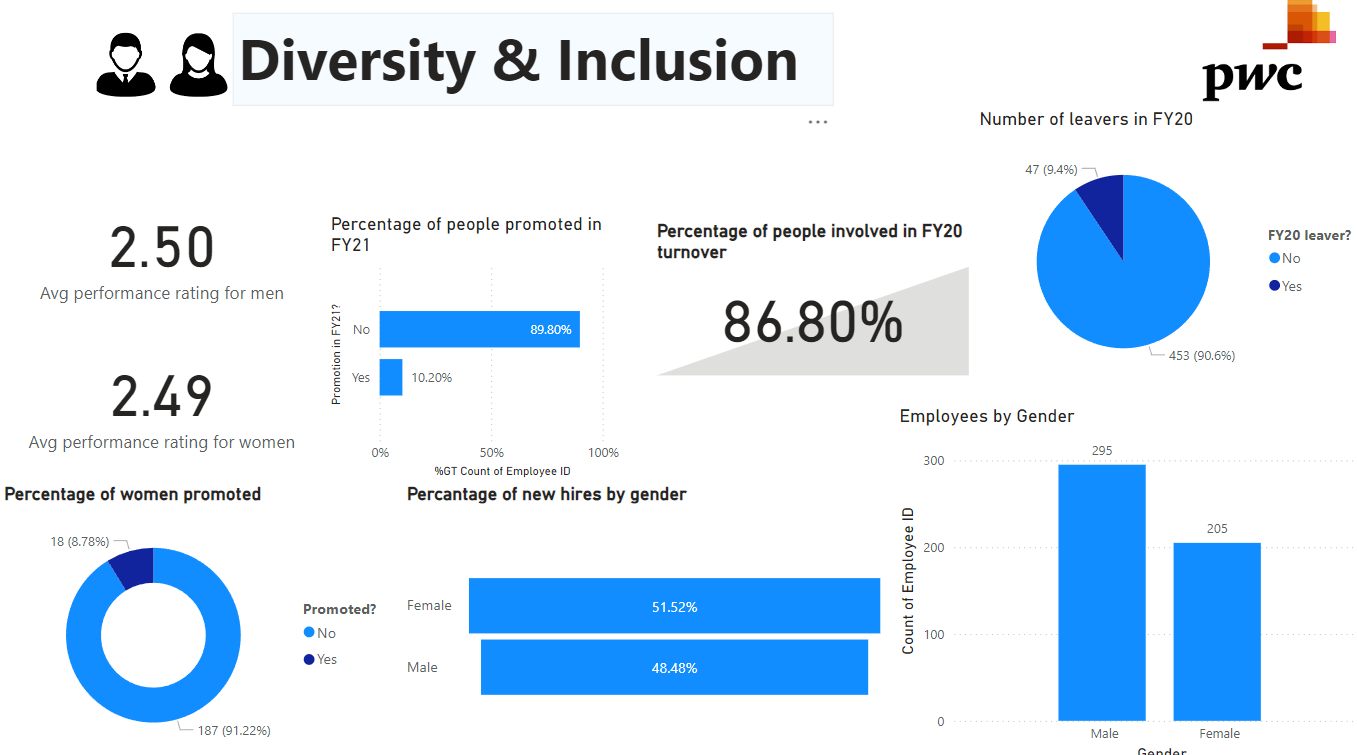

This screenshot's page, from the dashboard's own definition file:
{"tool":"powerbi","page":{"name":"Page 1","canvas":[1280,720],"ordinal":0},"visuals":[{"type":"pieChart","title":"Number of leavers in FY20","fields":{"Y":["CountNonNull(Pharma Group AG.Employee ID)"],"Category":["Pharma Group AG.FY20 leaver?"]},"box":[907,105.8,373.3,267.4],"z":0},{"type":"clusteredBarChart","title":"Percentage of people promoted in FY21","fields":{"Category":["Pharma Group AG.Promotion in FY21?"],"Y":["Divide(CountNonNull(Pharma Group AG.Employee ID), ScopedEval(CountNonNull(Pharma Group AG.Employee ID), []))"]},"box":[303.3,203.1,299.1,251.1],"z":1000},{"type":"clusteredColumnChart","title":"Employees by Gender","fields":{"Category":["Pharma Group AG.Gender"],"Y":["CountNonNull(Pharma Group AG.Employee ID)"]},"box":[832.9,382.8,447.3,337.6],"z":2000},{"type":"donutChart","title":"Percentage of women promoted","fields":{"Category":["Pharma Group AG.Promotion in FY21?"],"Y":["CountNonNull(Pharma Group AG.Employee ID)"],"Series":["Pharma Group AG.Promotion in FY21?"]},"box":[0,454.2,374.6,264.8],"z":3000},{"type":"funnel","title":"Percantage of new hires by gender","fields":{"Category":["Pharma Group AG.Gender","Pharma Group AG.New hire FY20?"],"Y":["Divide(CountNonNull(Pharma Group AG.Employee ID), ScopedEval(CountNonNull(Pharma Group AG.Employee ID), []))"]},"box":[374.6,454.2,455.6,266.2],"z":4000},{"type":"kpi","title":"Percentage of people involved in FY20 turnover","fields":{"TrendLine":["Pharma Group AG.In base group for turnover FY20"],"Indicator":["Divide(CountNonNull(Pharma Group AG.Employee ID), ScopedEval(CountNonNull(Pharma Group AG.Employee ID), []))"]},"box":[606.5,209.9,300.5,149.6],"z":5000},{"type":"card","fields":{"Values":["Pharma Group AG.Measure"]},"box":[0,170.2,303.3,138.6],"z":6000},{"type":"card","fields":{"Values":["Pharma Group AG.Measure"]},"box":[0,308.7,303.3,137.2],"z":7000},{"type":"textbox","box":[217.4,17.4,559.3,87.2],"z":8000},{"type":"image","box":[1083.7,0,196.5,104.7],"z":9000},{"type":"image","box":[86,5.8,131.4,110.5],"z":10000}]}

Visuals, with their boxes in screenshot pixels (x1, y1, x2, y2), scaled from the page's 1280x720 canvas onto the 1357x755 screenshot:
"Number of leavers in FY20" pieChart: 962/111/1356/391
"Percentage of people promoted in FY21" clusteredBarChart: 322/213/639/476
"Employees by Gender" clusteredColumnChart: 883/401/1356/754
"Percentage of women promoted" donutChart: 0/476/397/754
"Percantage of new hires by gender" funnel: 397/476/880/754
"Percentage of people involved in FY20 turnover" kpi: 643/220/962/377
card - Pharma Group AG.Measure: 0/178/322/324
card - Pharma Group AG.Measure: 0/324/322/468
textbox: 230/18/823/110
image: 1149/0/1356/110
image: 91/6/230/122
